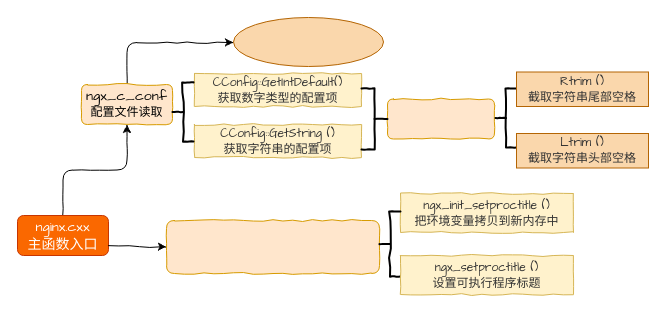
This 666x312 diagram has some shape labels left out. Each missing label, with the centre of its shape:
Load("conf文件") 加载配置文件函数: point 308,41
ngx_setproctitle 1. 将环境变量拷贝到新的内存 2. 修改进程名称: point 273,247
ngx_string 处理配置项空格: point 440,118
